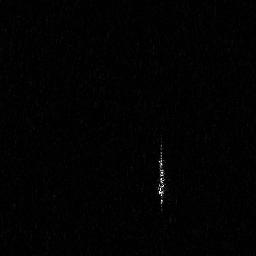ship: (156, 138, 167, 215)
